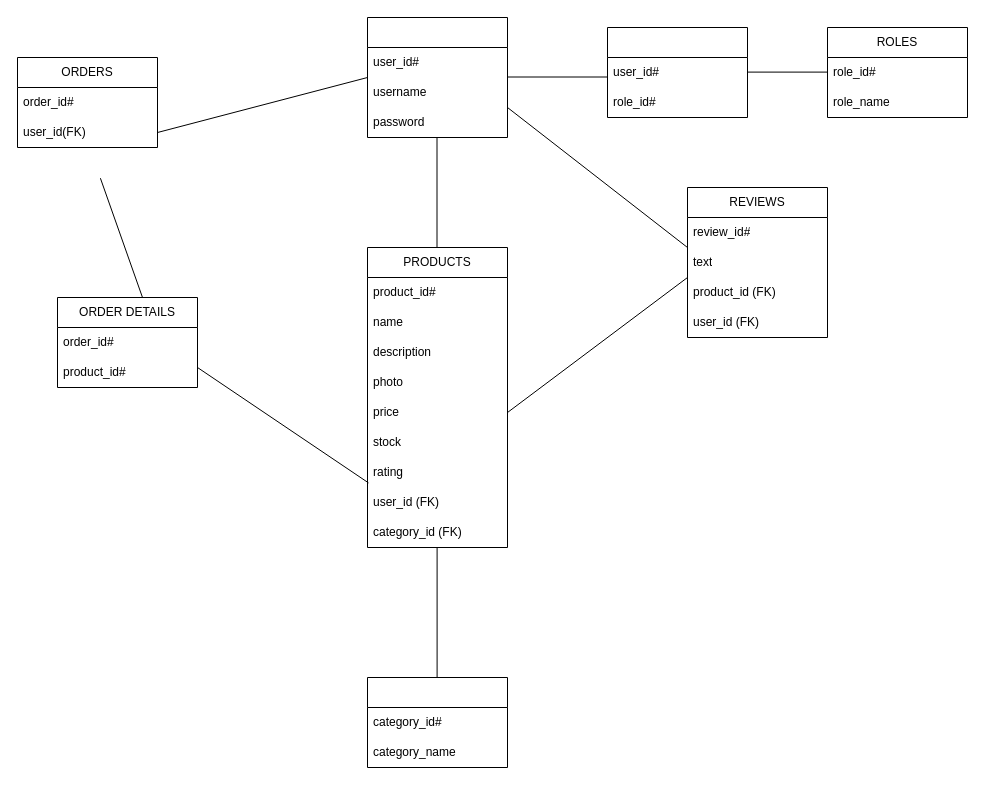
Image size: 985x785. Some labels were removed from this diagram. Here are the shapes that lost their labels. From the top down, the box of each, then its label:
(366, 16, 508, 138): USERS
(606, 26, 748, 118): USER_IN_ROLE
(366, 676, 508, 768): CATEGORIES
